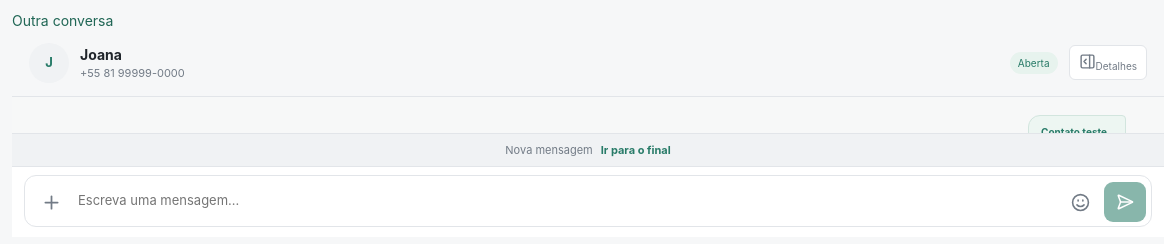
Test: ConversationView › resets unread, scroll and drafts when changing conversations
(page scrolled)
expect the text "Nova mensagem" is shown: met, box top-left (505, 143), bottom-right (593, 157)
In the text box named "Escrever mensagem": (566, 201) top-left (75, 180), bottom-right (1056, 222), type "Rascunho anterior"
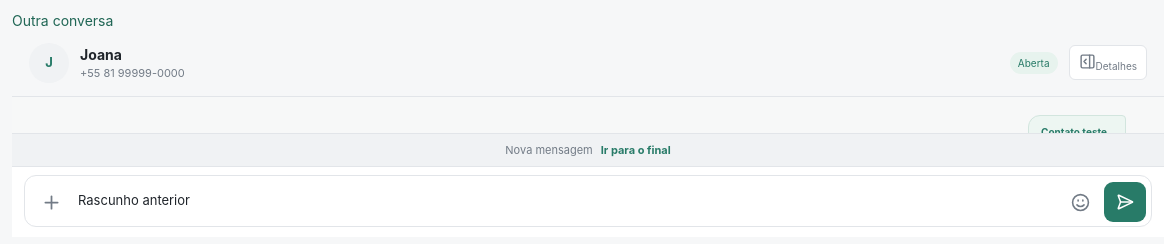
Click the link "Outra conversa": (63, 20) top-left (12, 12), bottom-right (113, 29)
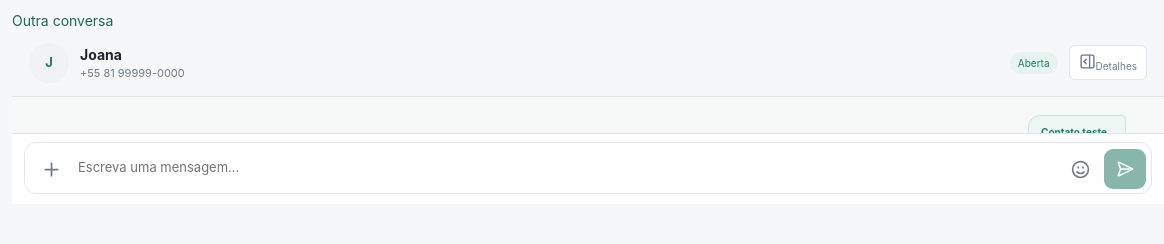
expect the element named "Histórico de mensagens" is shown: met, box top-left (12, 97), bottom-right (1163, 133)
expect the text "Nova mensagem" is gone: met
expect the text box named "Escrever mensagem" is empty: met, box top-left (75, 147), bottom-right (1056, 189)
